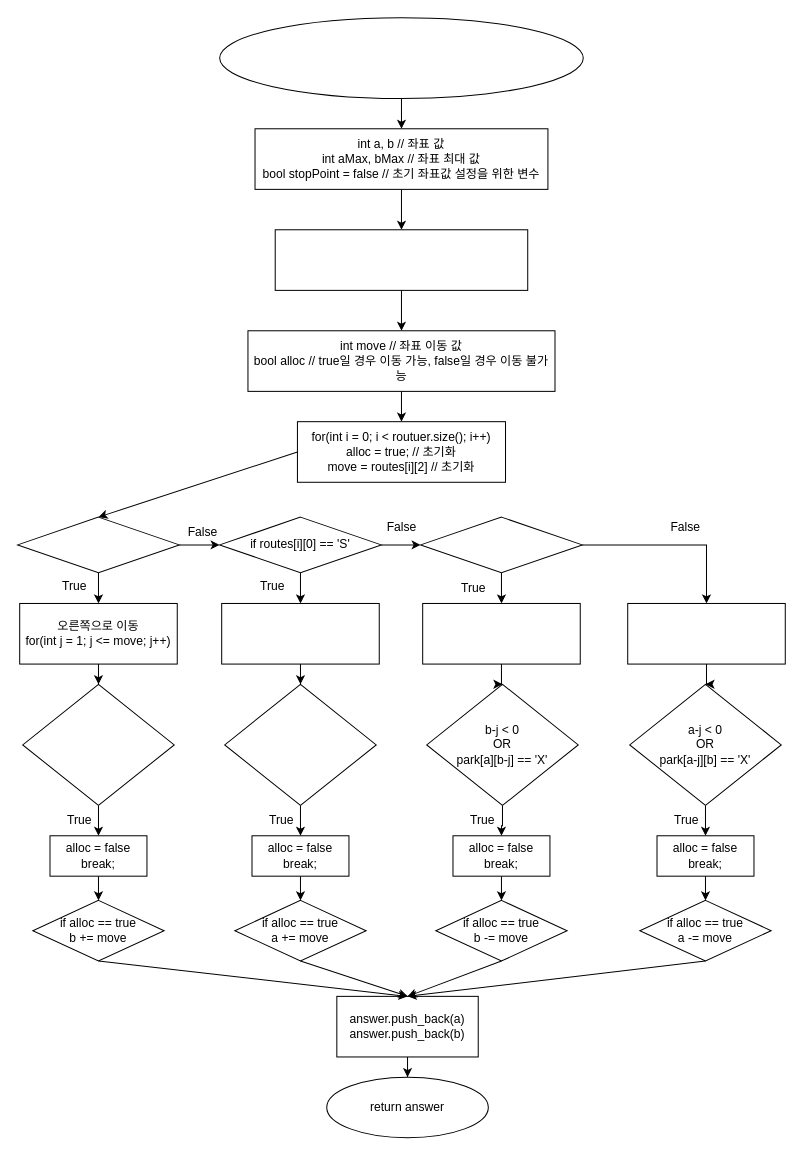
This 803x1155 diagram has some shape labels left out. Here are the shapes that lost their labels. From the top down, the centre of each, then its label:
[401,57]: solution(vection<string> park, vector<string> routes)
[401,259]: 이중 for문 // 좌표 초기 값 설정 park[i][j] == 'S'일 경우 a = i, b = j
[98,544]: if routes[i][0] == 'E'
[501,544]: if routes[i][0] == 'W'
[300,633]: 아래쪽으로 이동 for(int j = 1; j <= move; j++)
[501,633]: 왼쪽으로 이동 for(int j = 1; j <= move; j++)
[706,633]: 위쪽으로 이동 for(int j = 1; j <= move; j++)
[98,744]: b+j > bMax OR park[a][b+j] == 'X'
[300,744]: a+j > aMax OR park[a+j][b] == 'X'
